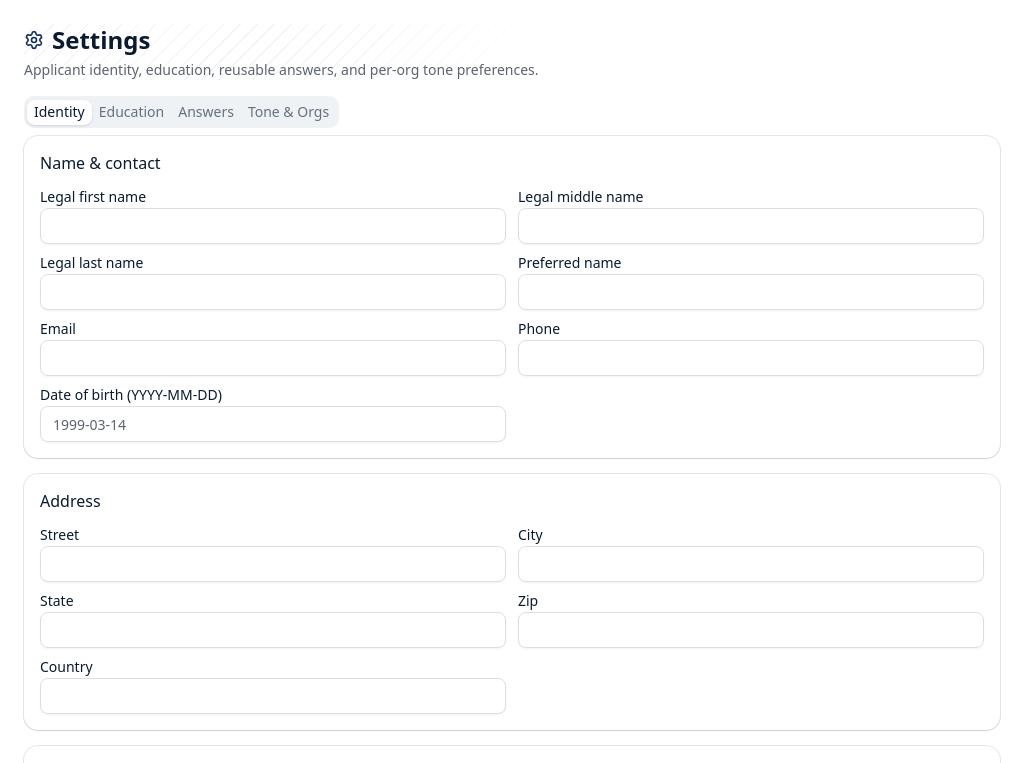
Test: Settings - delete button accessible names identify the row › Answer snippets: two snippets get distinct delete labels by question
Step 1. Click the tab "Answers" → point(206, 112), box left=171, top=100, right=241, bottom=124
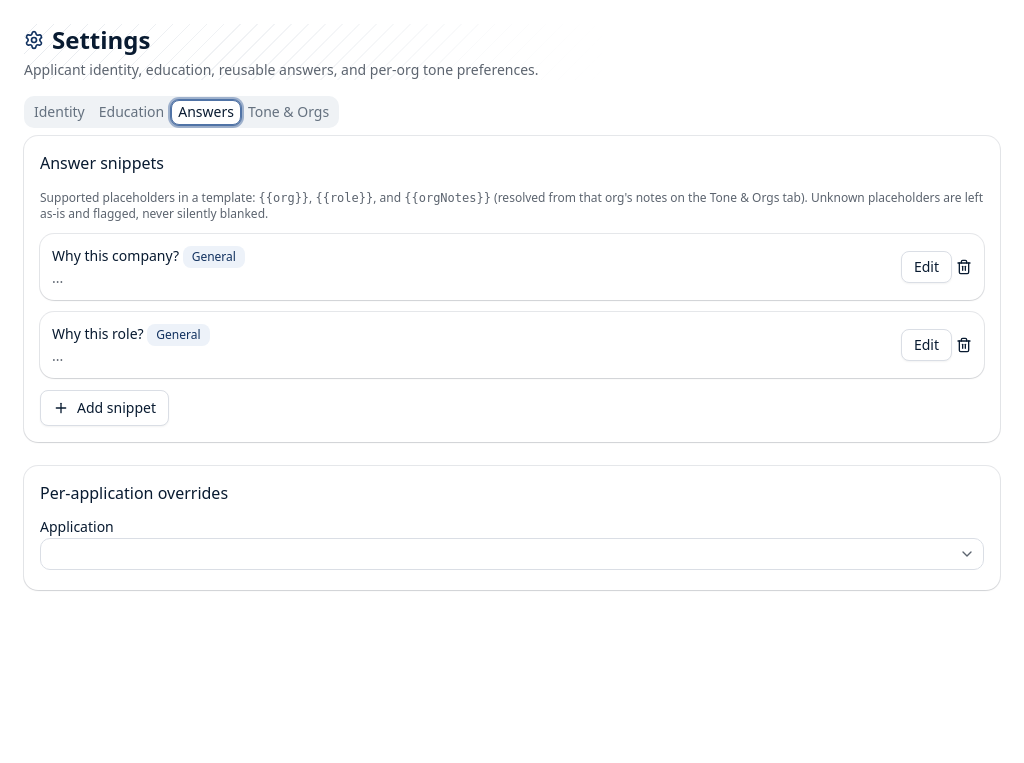
Expected: the button named "Delete snippet: Why this company?" is shown, left=956, top=251, right=972, bottom=283
Expected: the button named "Delete snippet: Why this role?" is shown, left=956, top=329, right=972, bottom=361
